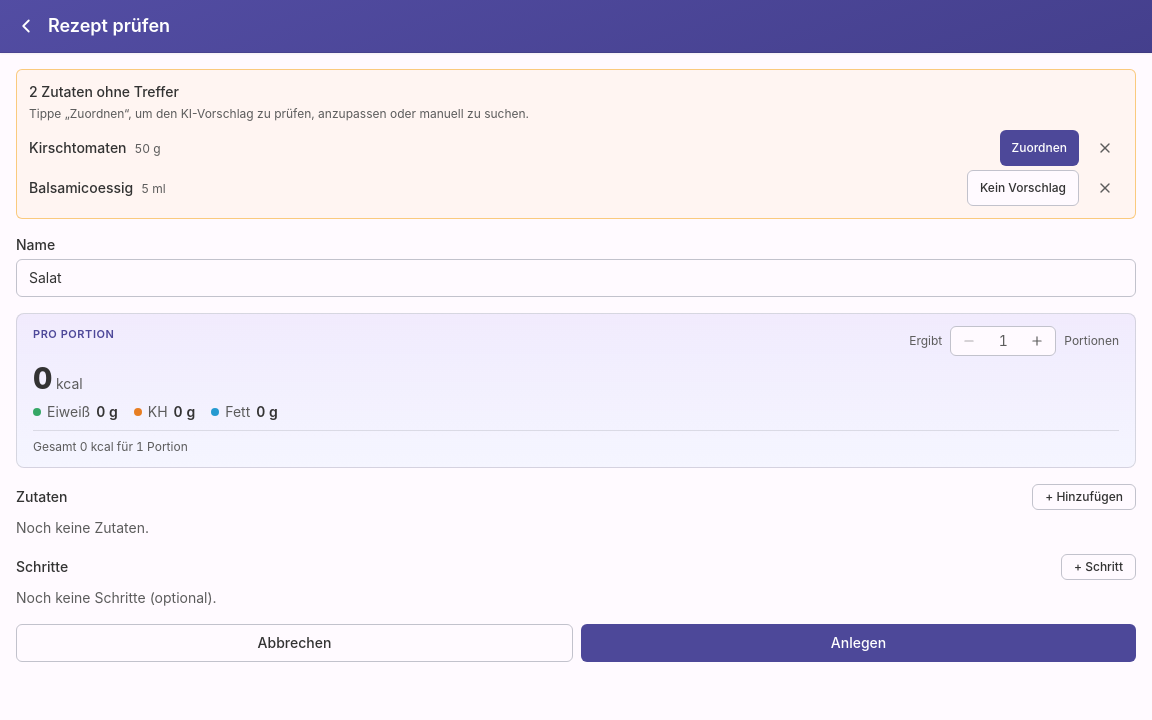
Scenario: resolve flow on the review screen › confirms a new-food proposal and moves the row into the ingredient list with its amount
Note: Open the proposal for Kirschtomaten once the prefetch lands.
Step 1. Click the button labelled "Zuordnen" → x=1039, y=148, box [1000,130,1079,166]
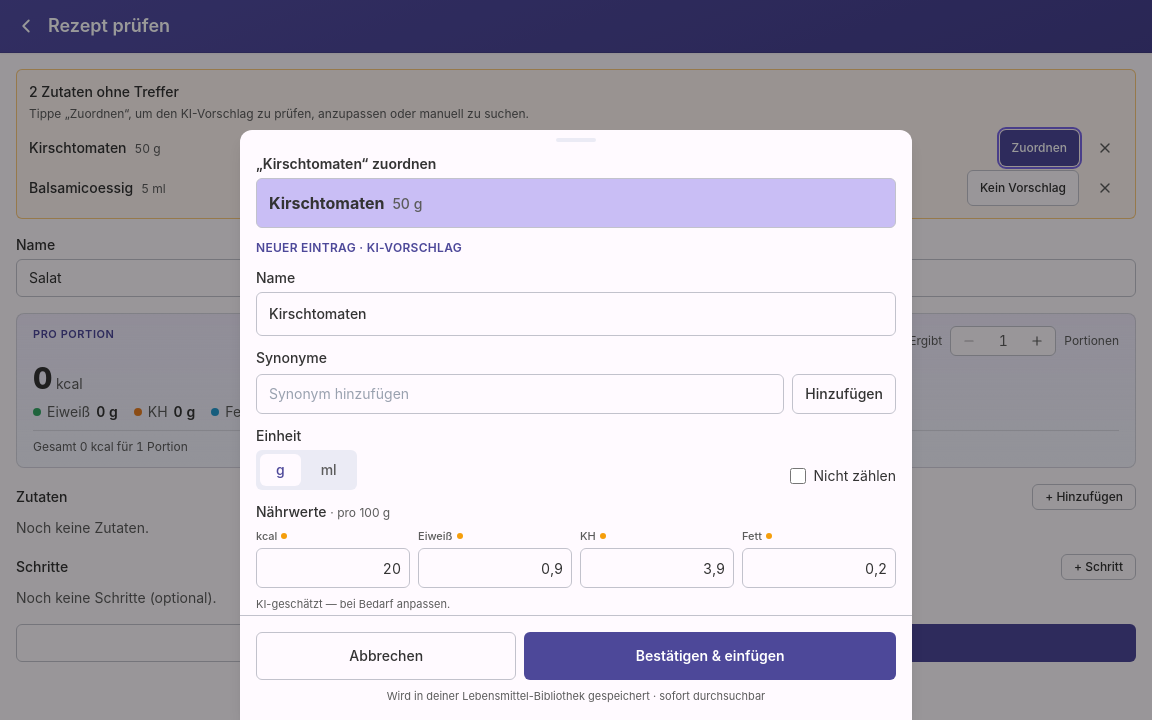
Step 2. Click the button "Bestätigen & einfügen" → x=710, y=656, box [524,632,896,680]
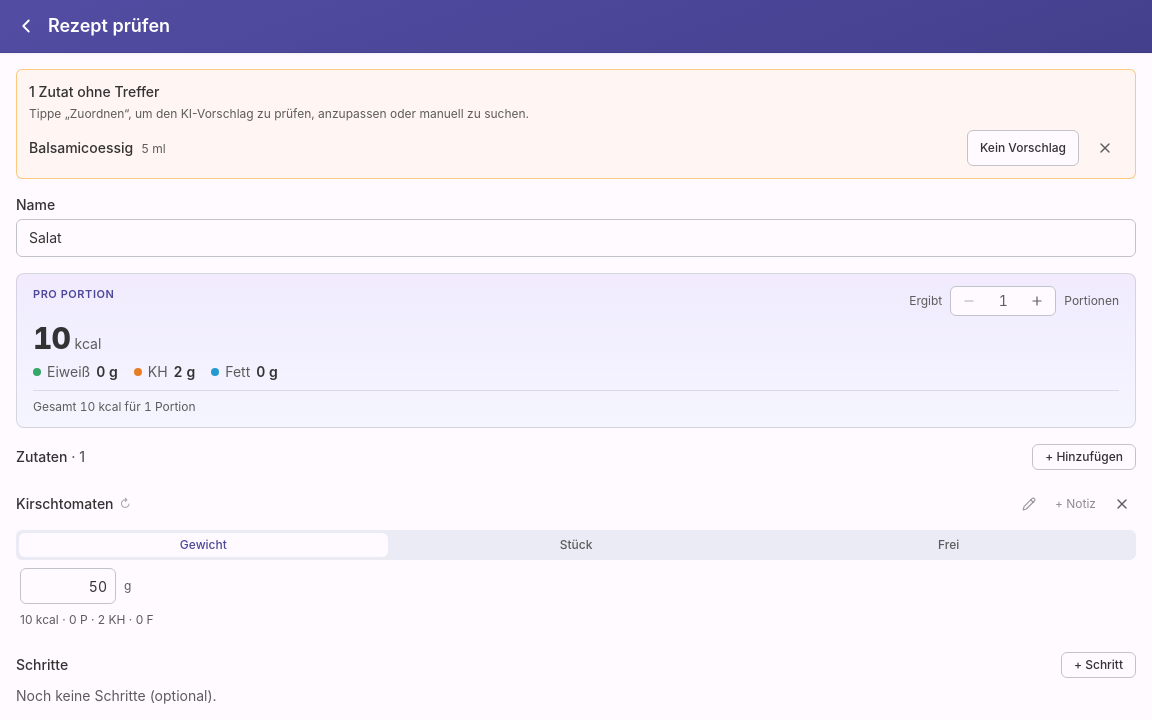
Now the list item labelled "Kirschtomaten50 g Zuordnen" is gone
